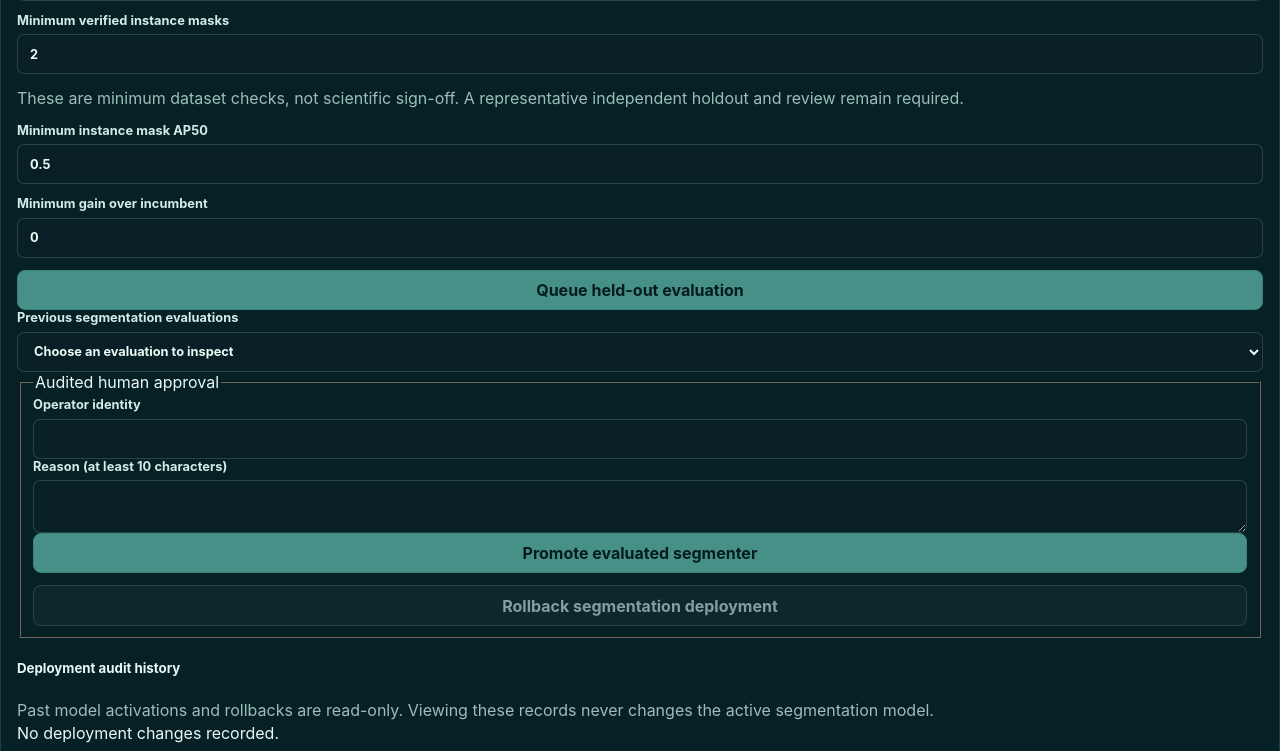
Test: SegmentationEvaluationPanel › blocks approval when the evaluated segmenter is no longer registered
The image size is (1280, 751).
(page scrolled)
Step 1. Select "completed: candidate" in the dropdown named "Segmentation evaluation history" → x=640, y=352, box [17,332,1263,372]
(page scrolled)
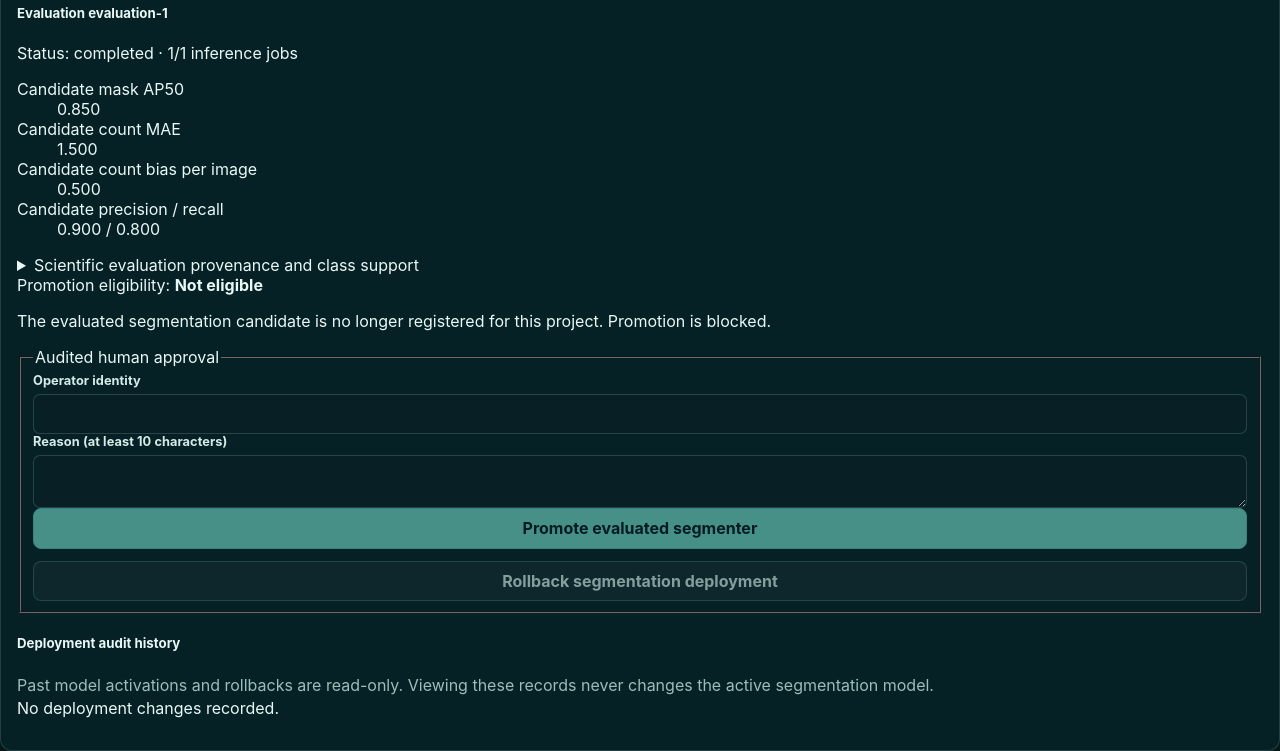
Expected: the button "Promote evaluated segmenter" is disabled, [33,508,1247,549]
Now the text "0.850" is shown, box [57,99,100,119]
Now the text "evaluated segmentation candidate is no longer registered" is shown, box [17,311,771,331]
